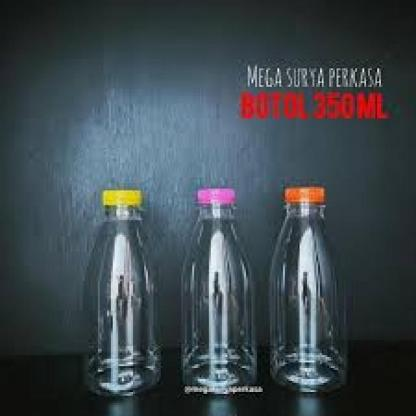Plastic Bottle: (178, 186, 262, 393), (267, 181, 347, 393), (84, 188, 162, 396)
